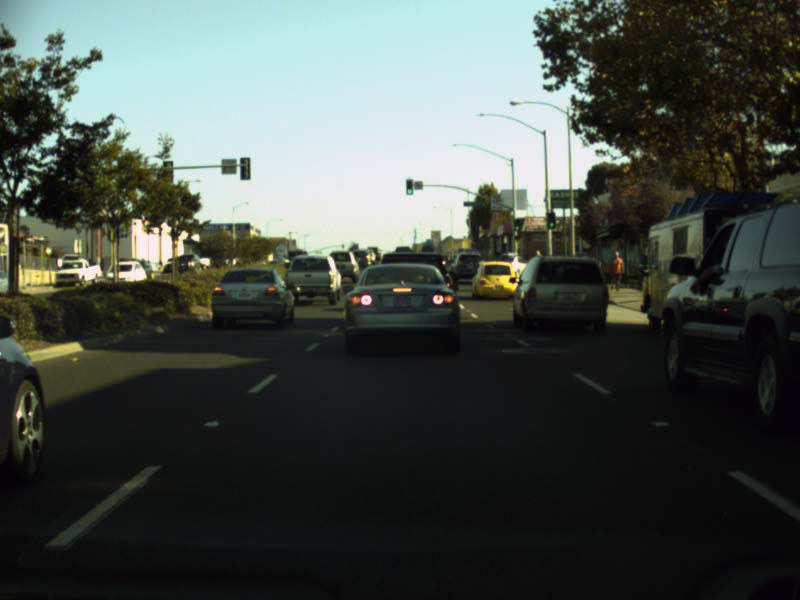Green: (405, 178, 413, 195), (547, 213, 555, 228), (513, 219, 521, 231)
